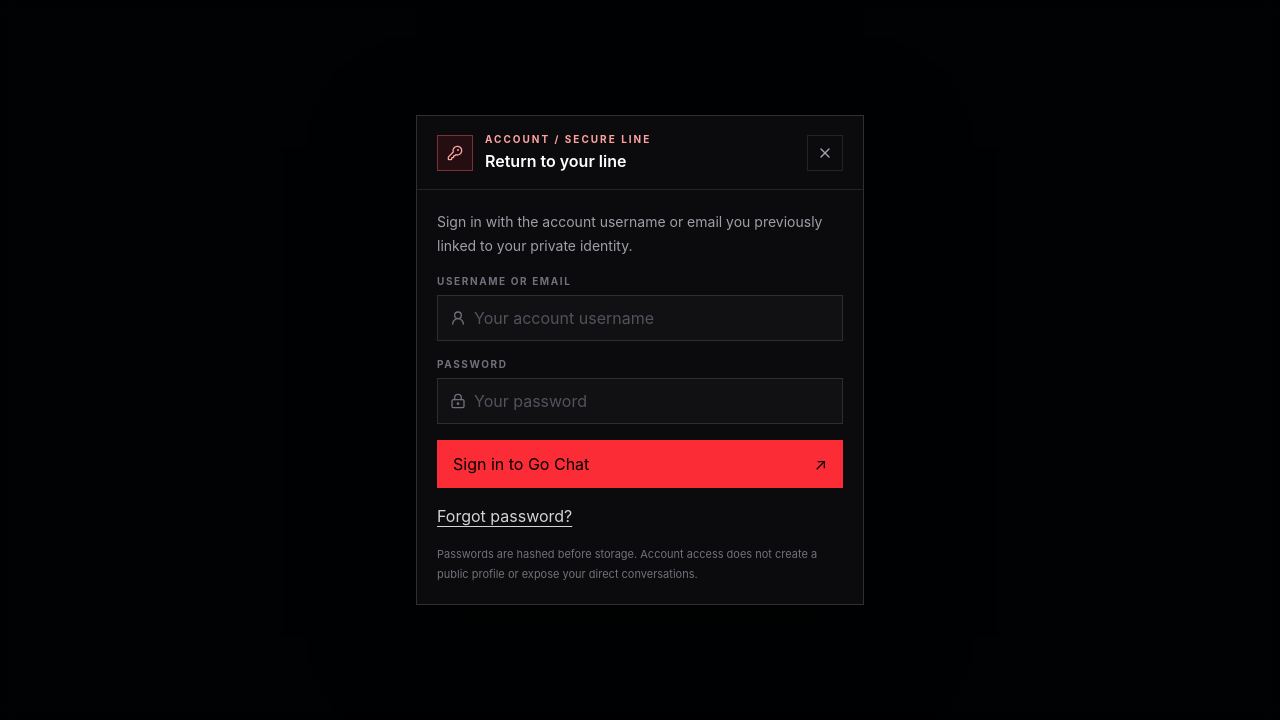
Test: account recovery and session controls › requests password recovery without revealing whether an account exists
Step 1. Click the button "Forgot password?" → coordinates (505, 516), box [437,504,572,528]
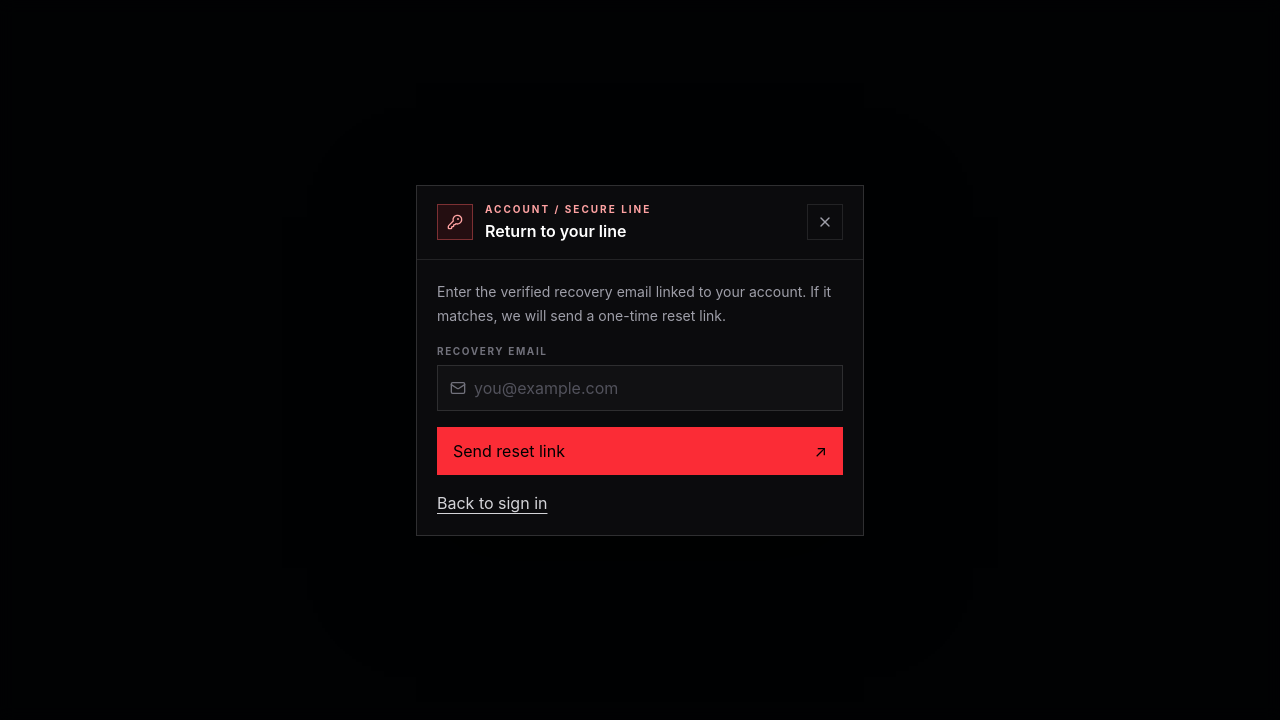
Step 2. Type "person@example.com" into the field labelled "Recovery email" → coordinates (652, 388), box [474,366,830,410]
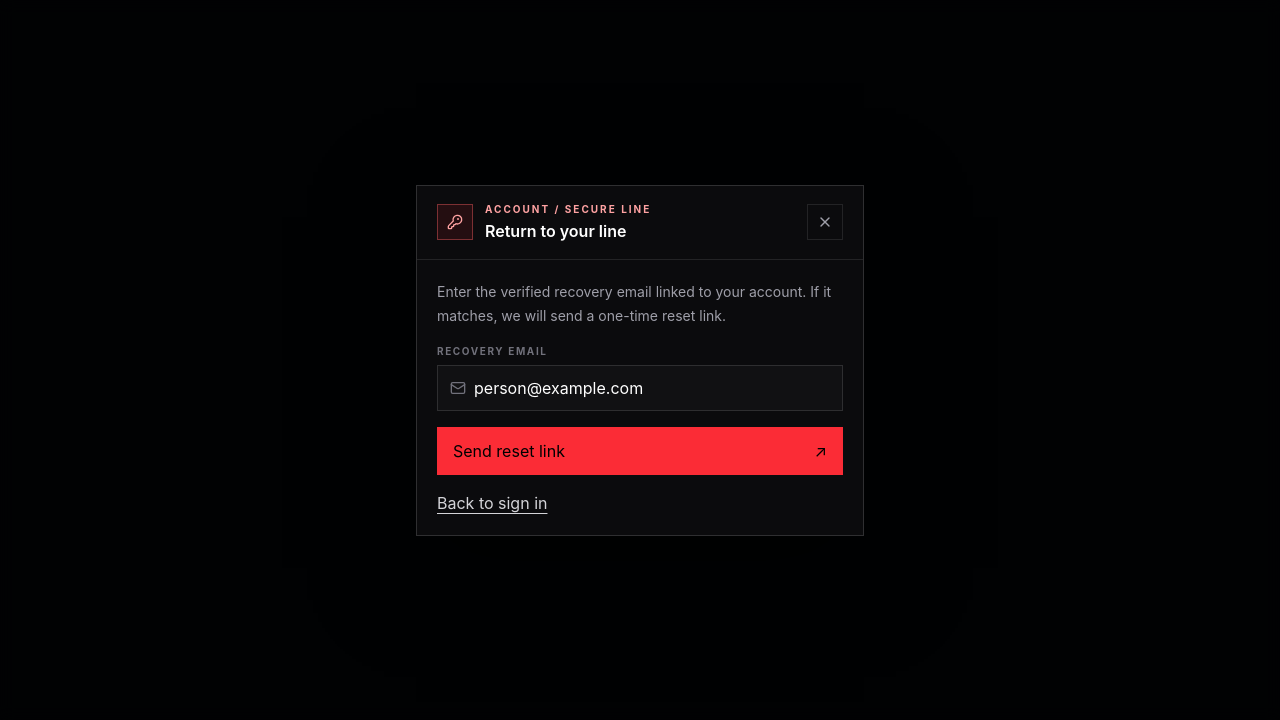
Step 3. Click the button "Send reset link ↗" → coordinates (509, 450), box [437,426,843,474]
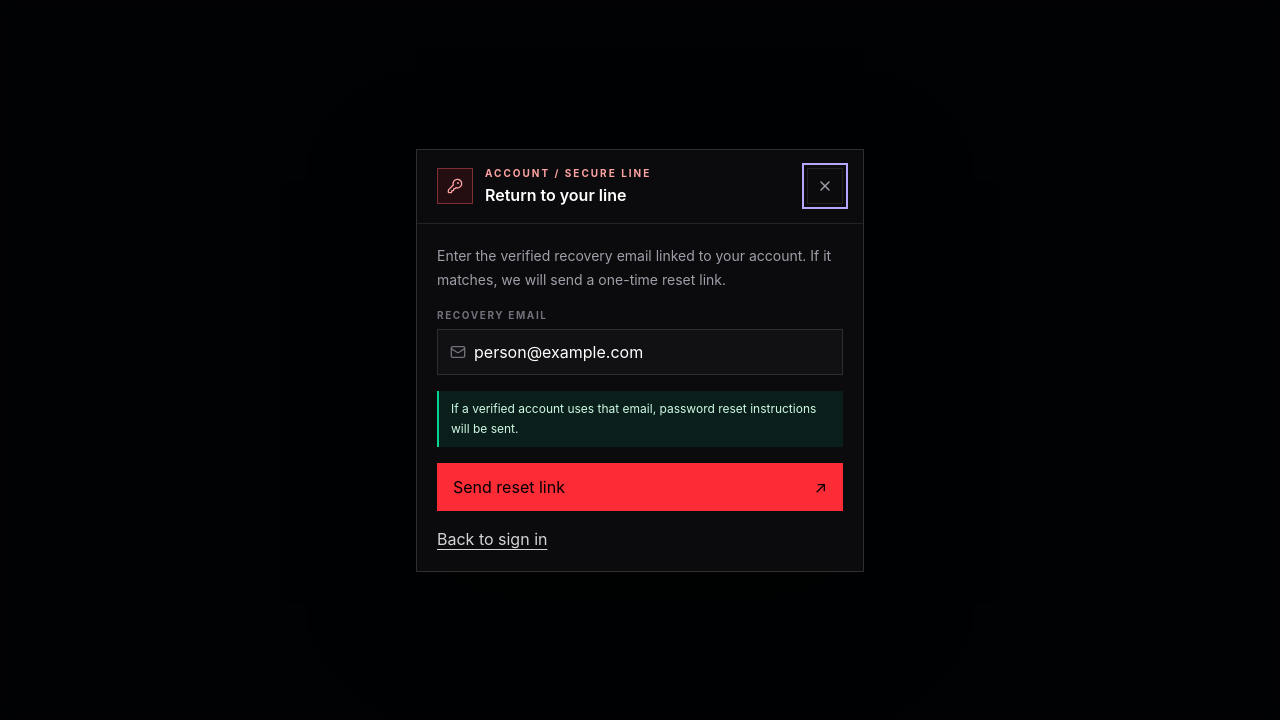
Expected: the message is shown, [437,390,843,446]
